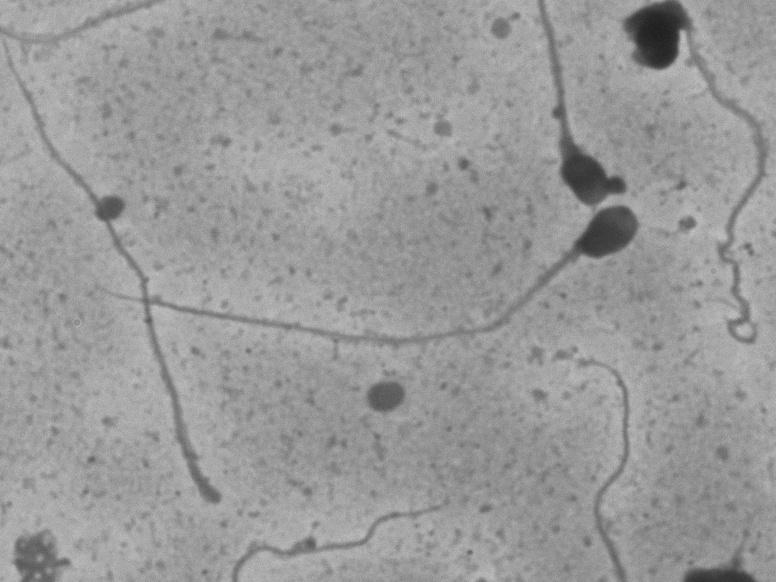Abnormal: (80, 191, 653, 361), (604, 5, 755, 117)
